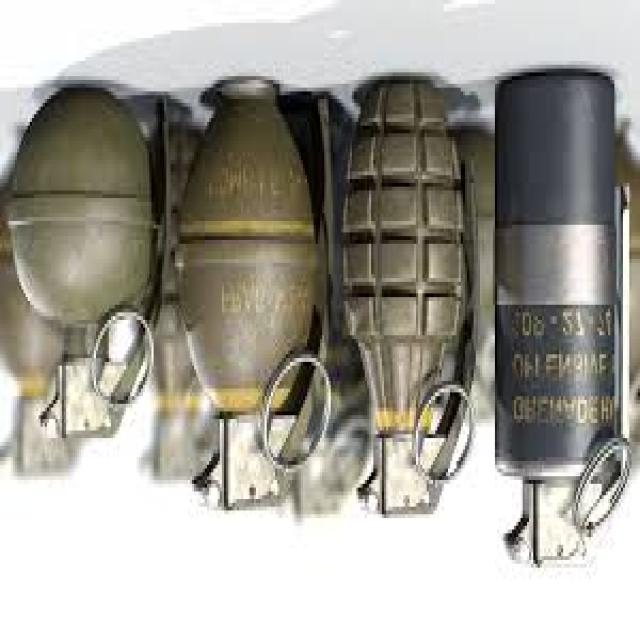grenade: (165, 62, 340, 532), (338, 70, 489, 531), (7, 66, 173, 452)
